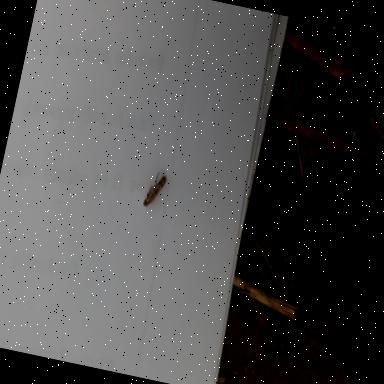pbw: (140, 170, 166, 210)
